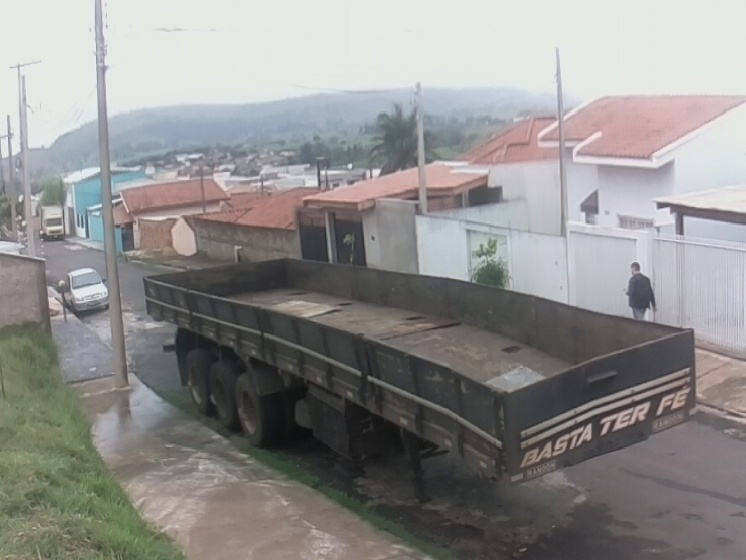person: (625, 260, 656, 327)
